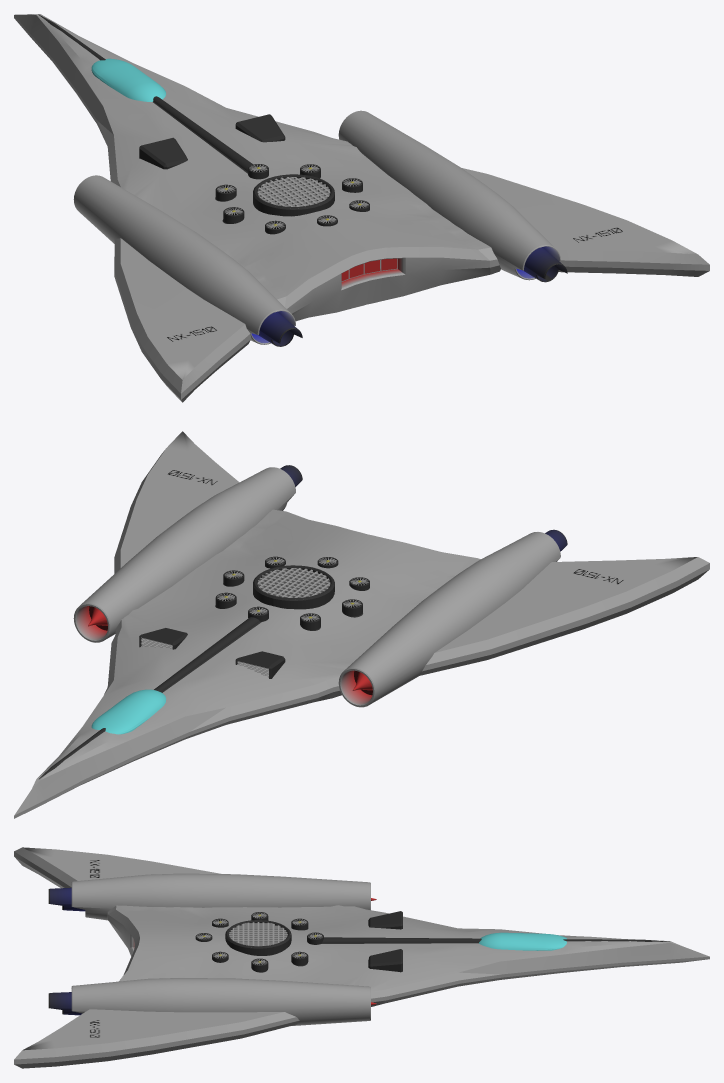
Rendered from ship1c.obj.
3 views of the same model, one above another, from view 1: azimuth 30°, elevation 25°; view 2: azimuth 150°, elevation 25°; view 3: azimuth 270°, elevation 25° (orthographic). The views are drawn at different scales.
Visible parts, largest first — view 1: Plane, Plane.001, Plane.002; view 2: Plane, Plane.001, Plane.002; view 3: Plane, Plane.001, Plane.002.
Boxes of the visible parts, left/top/right/bottom form: Plane: left=14, top=14, right=709, bottom=402; Plane.001: left=215, top=164, right=369, bottom=234; Plane.002: left=91, top=58, right=165, bottom=101; Plane: left=14, top=431, right=709, bottom=818; Plane.001: left=215, top=556, right=369, bottom=630; Plane.002: left=91, top=689, right=166, bottom=734; Plane: left=14, top=847, right=709, bottom=1068; Plane.001: left=195, top=912, right=323, bottom=972; Plane.002: left=479, top=932, right=566, bottom=950.
Bounding box in the file's own units: 0.354 × 0.0454 × 0.5002.
1 material, 1 textured.
